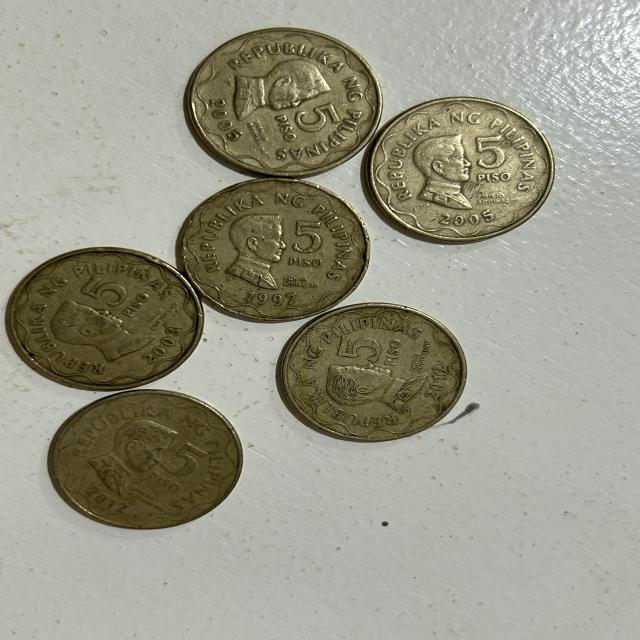5_Old_Front: (70, 271, 159, 322), (466, 132, 524, 195), (147, 440, 218, 488), (333, 328, 410, 372), (287, 206, 334, 273), (274, 102, 337, 149)
